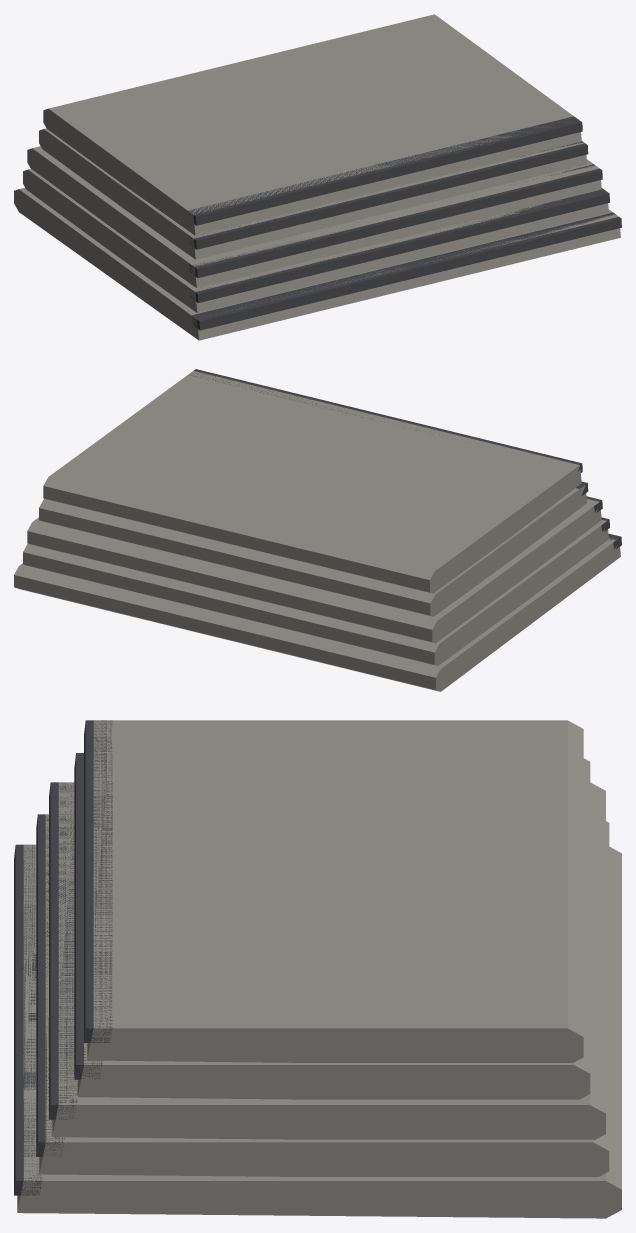
The model's file is FN_Throw_Folded.obj.
The picture shows the model from 3 angles, top to bottom: view 1: azimuth 30°, elevation 25°; view 2: azimuth 150°, elevation 25°; view 3: azimuth 270°, elevation 25°; orthographic projection. The views are drawn at different scales.
Parts seen in each view (by area): view 1: FN_Throw_Folded; view 2: FN_Throw_Folded; view 3: FN_Throw_Folded.
Part boxes in pixels (x1,y1,x2,y2): FN_Throw_Folded: (14,14,621,340); FN_Throw_Folded: (14,369,621,691); FN_Throw_Folded: (14,720,621,1218).
Bounding box in the file's own units: 0.5 × 0.122 × 0.382.
Materials: 1 (1 with a texture image).
